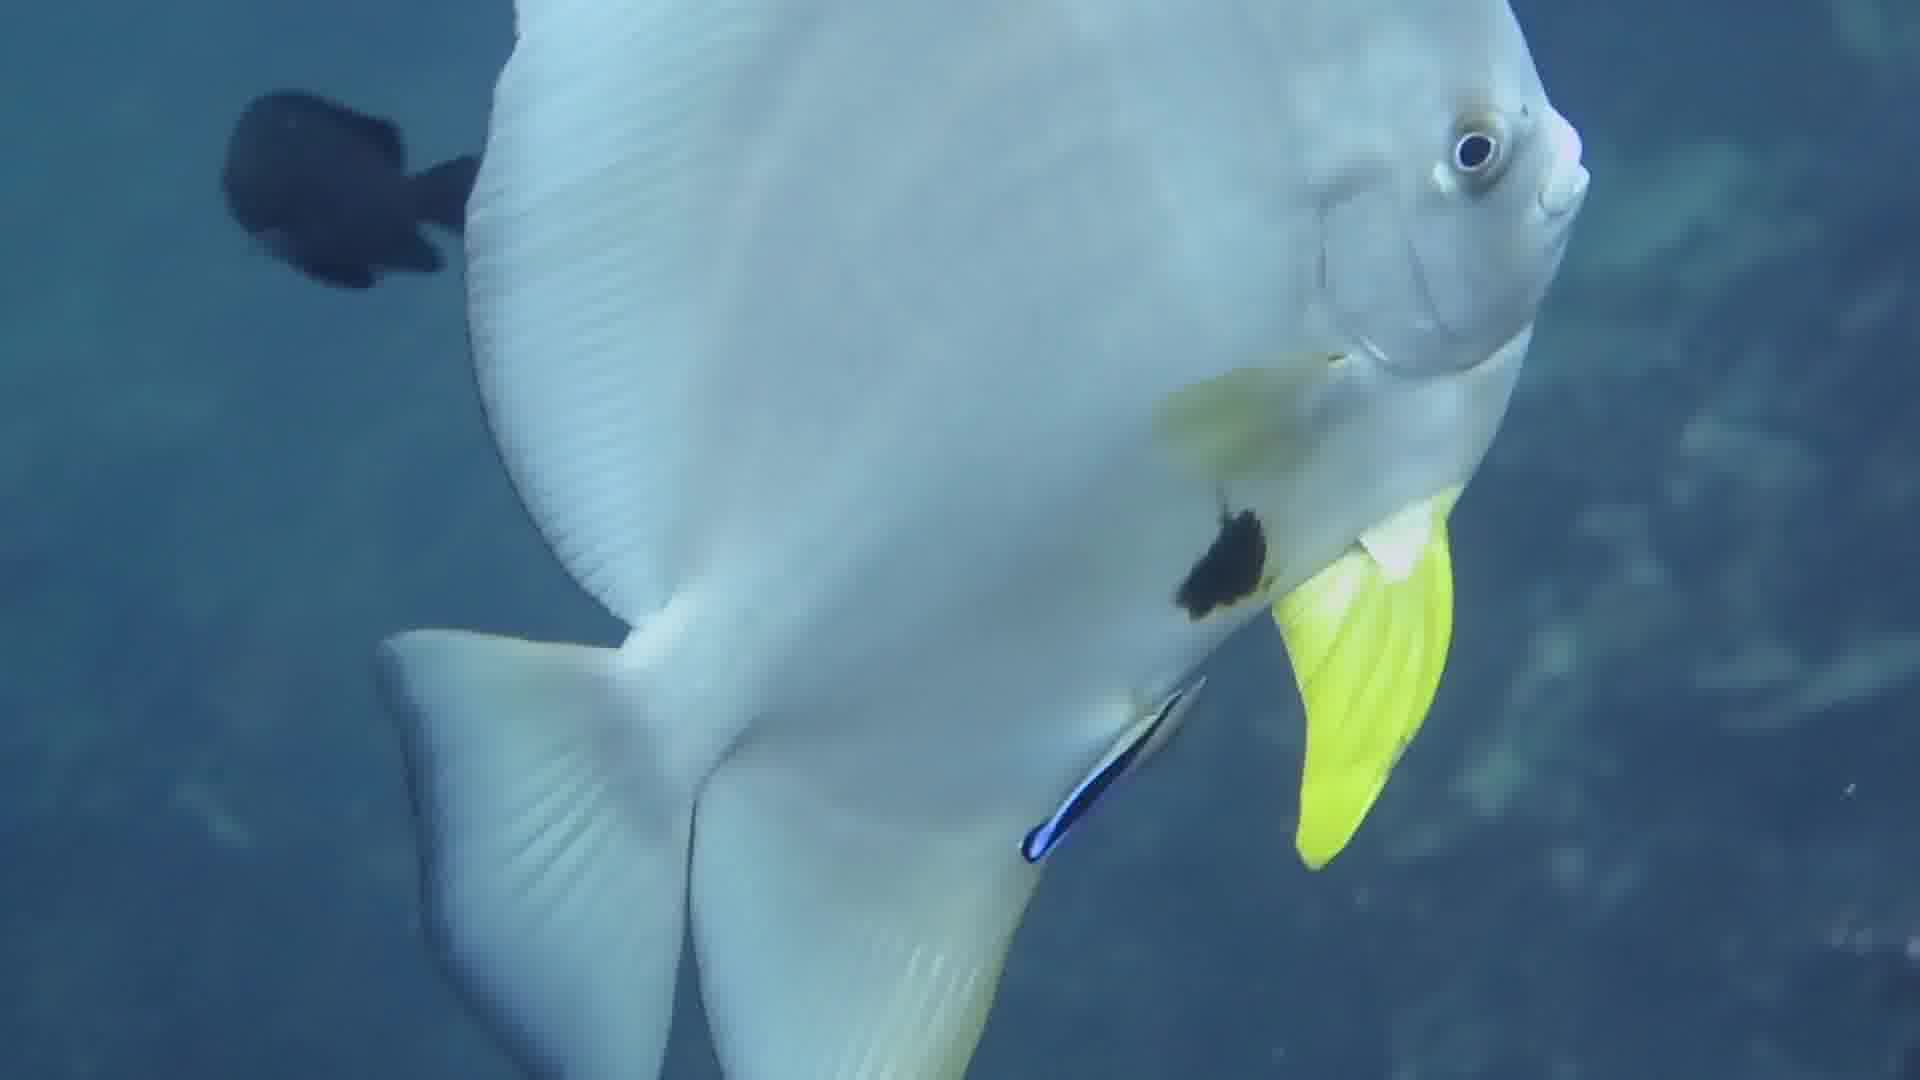Platax teira: (347, 1, 1615, 1080)
